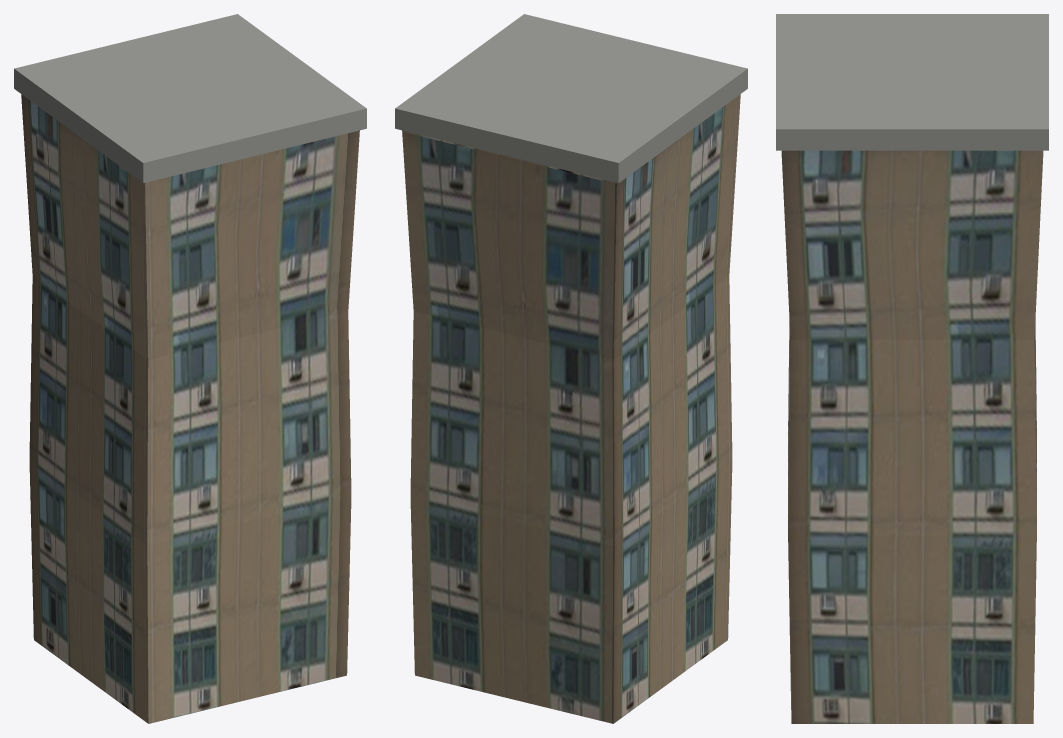
File: building3.fbx
3 renders of one model, left to right at view 1: azimuth 30°, elevation 25°; view 2: azimuth 150°, elevation 25°; view 3: azimuth 270°, elevation 25°, orthographic. The views are drawn at different scales.
Parts seen in each view (by area): view 1: Building2; view 2: Building2; view 3: Building2.
Boxes of the visible parts, x1,y1,x2,y2 form: Building2: [14, 14, 366, 723]; Building2: [395, 14, 747, 723]; Building2: [776, 14, 1048, 723].
Size of the model in its own units: 845 by 2055 by 845.
Materials: 2 (1 with a texture image).
